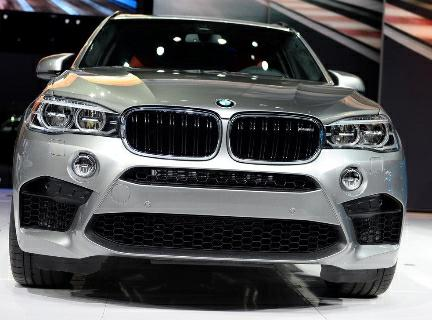宝马-X5M: (8, 10, 410, 297)
